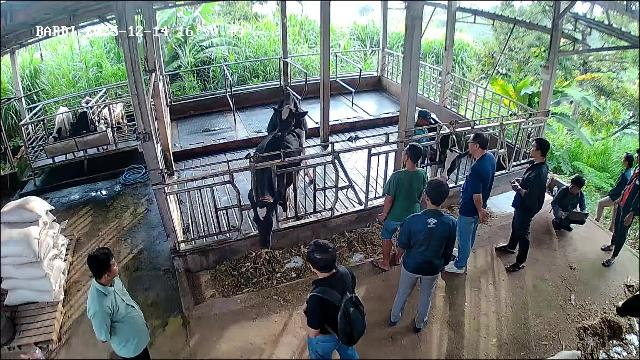mounting: (262, 88, 317, 184)
